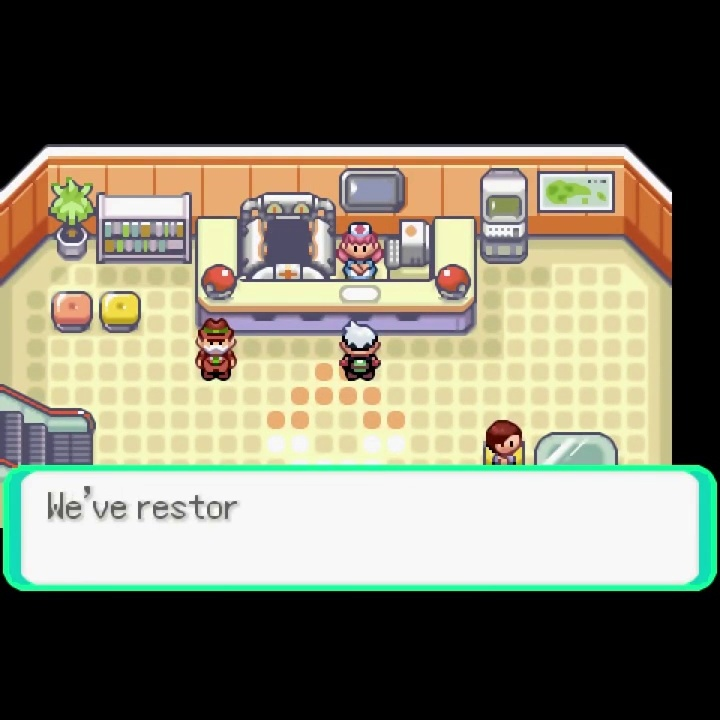npc: (333, 317, 383, 382), (194, 317, 240, 386), (337, 221, 386, 281), (482, 419, 526, 464)
